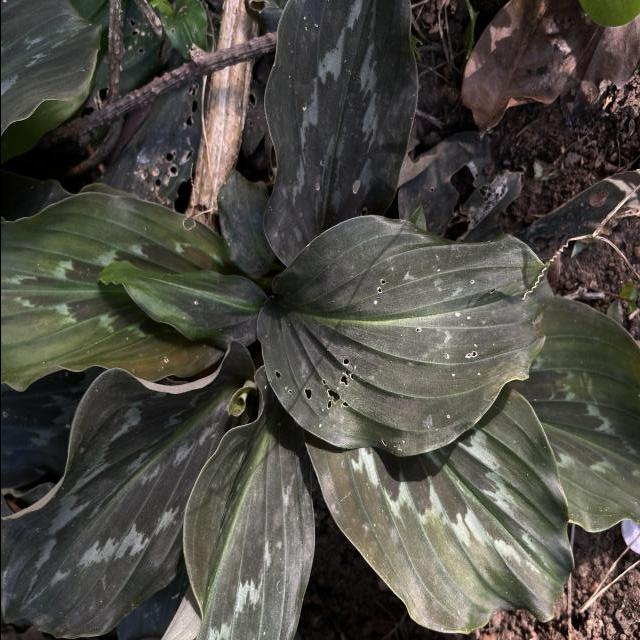Kaempferia galanga linn: (0, 339, 256, 640), (251, 210, 557, 460), (298, 385, 576, 637), (0, 189, 244, 393), (156, 364, 316, 640), (258, 0, 420, 271), (92, 258, 268, 350)
